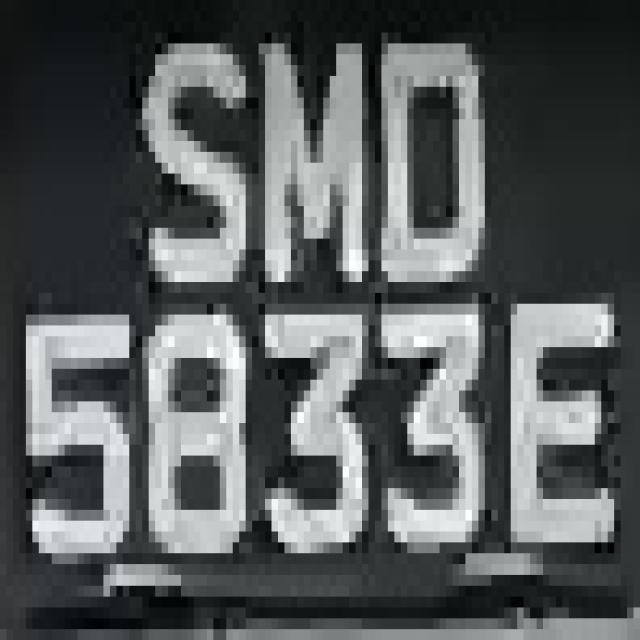3: (233, 282, 381, 586), (375, 260, 491, 575)
5: (13, 271, 142, 586)
8: (116, 260, 265, 586)
D: (349, 11, 491, 293)
E: (491, 250, 614, 564)
M: (233, 22, 381, 314)
S: (129, 11, 252, 304)
